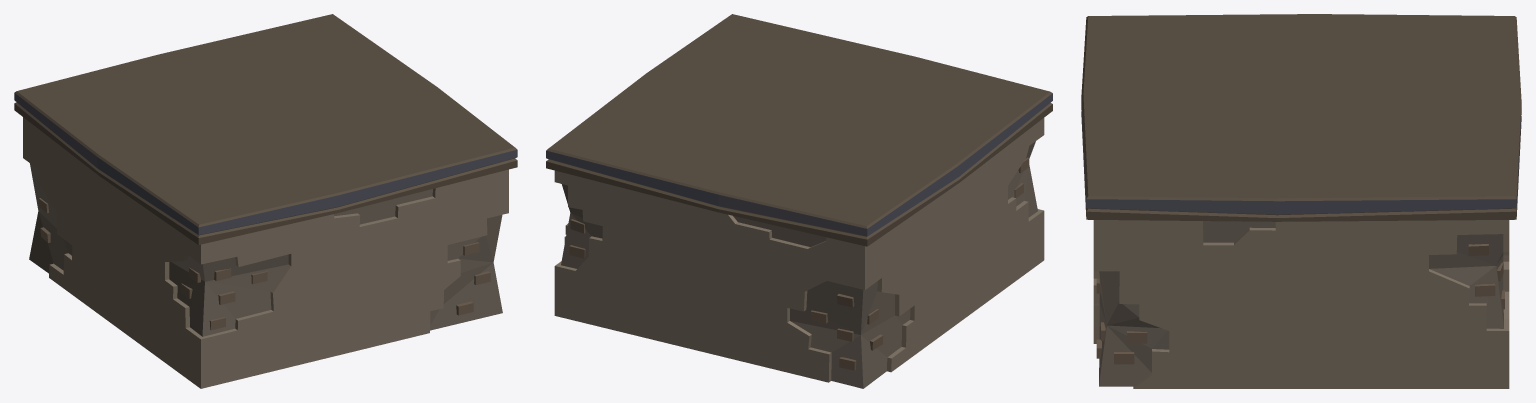
The model's file is SM_Bld_Shanty_Base_01.glb.
3 renders of one model, left to right at view 1: azimuth 30°, elevation 25°; view 2: azimuth 150°, elevation 25°; view 3: azimuth 270°, elevation 25°, orthographic. The views are drawn at different scales.
Visible parts, largest first — view 1: SM_Bld_Shanty_Base_01; view 2: SM_Bld_Shanty_Base_01; view 3: SM_Bld_Shanty_Base_01.
Part boxes in pixels (x1,y1,x2,y2): SM_Bld_Shanty_Base_01: [14, 14, 517, 388]; SM_Bld_Shanty_Base_01: [546, 14, 1052, 388]; SM_Bld_Shanty_Base_01: [1081, 14, 1521, 388].
Bounding box in the file's own units: 0.0511 × 0.025 × 0.0511.
